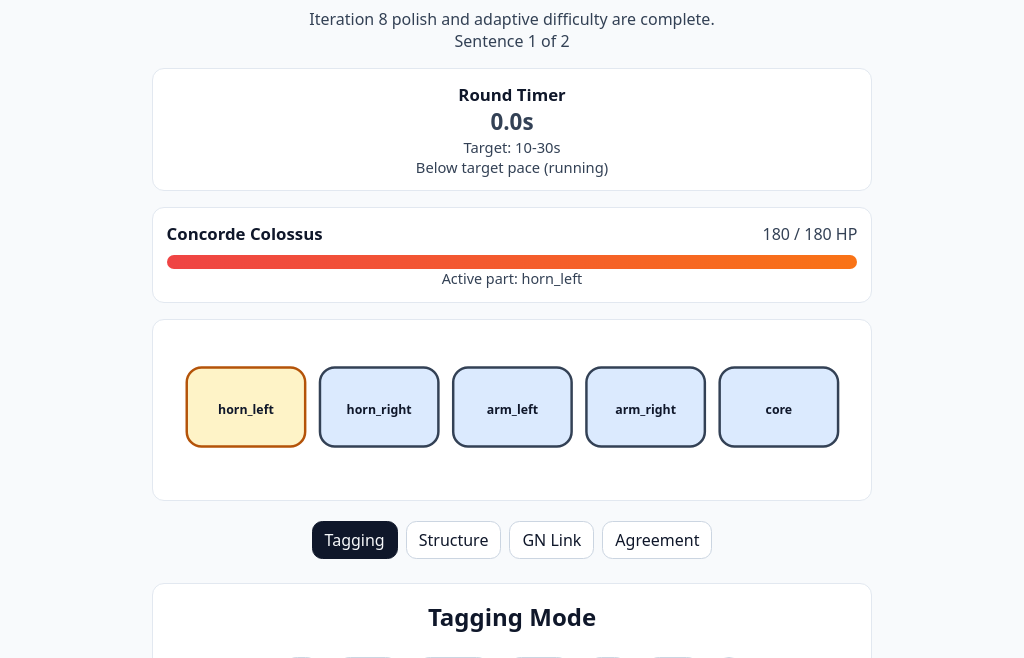
App › supports agreement mode interaction flow through battleEngine
Click the button "Agreement". click: (657, 540)
box: [602, 521, 712, 559]
(page scrolled)
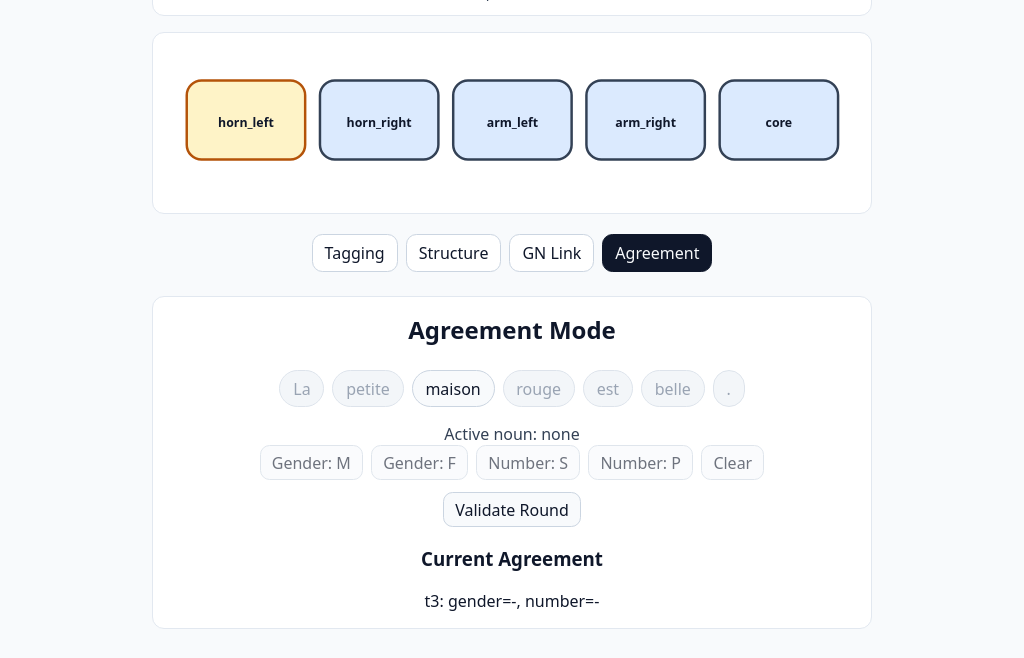
Expected: the heading "Agreement Mode" is shown, [408, 313, 616, 346]
Click the button "maison". click: (453, 388)
box: [412, 370, 494, 407]
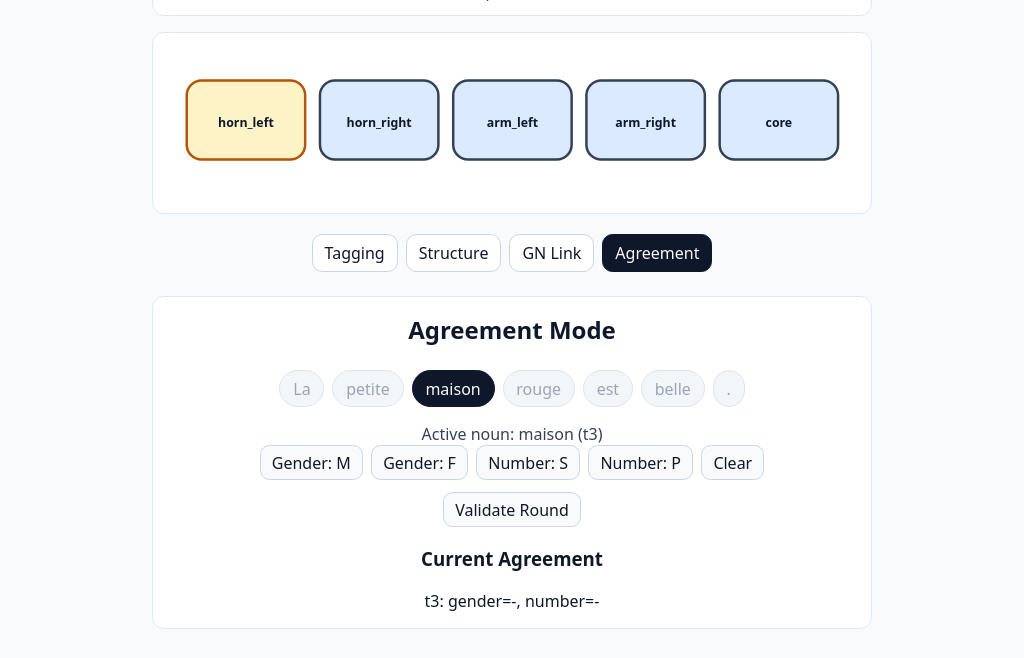
Click the button "Gender: F". click: (420, 462)
box: [371, 445, 468, 480]
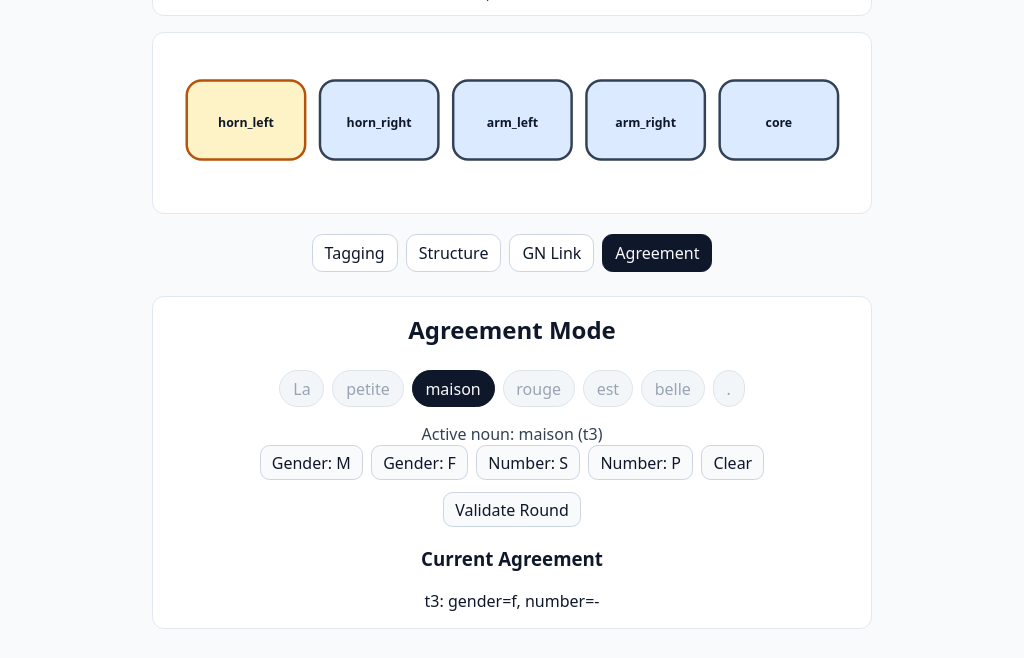
Click the button "Number: S". click: (528, 462)
box: [476, 445, 580, 480]
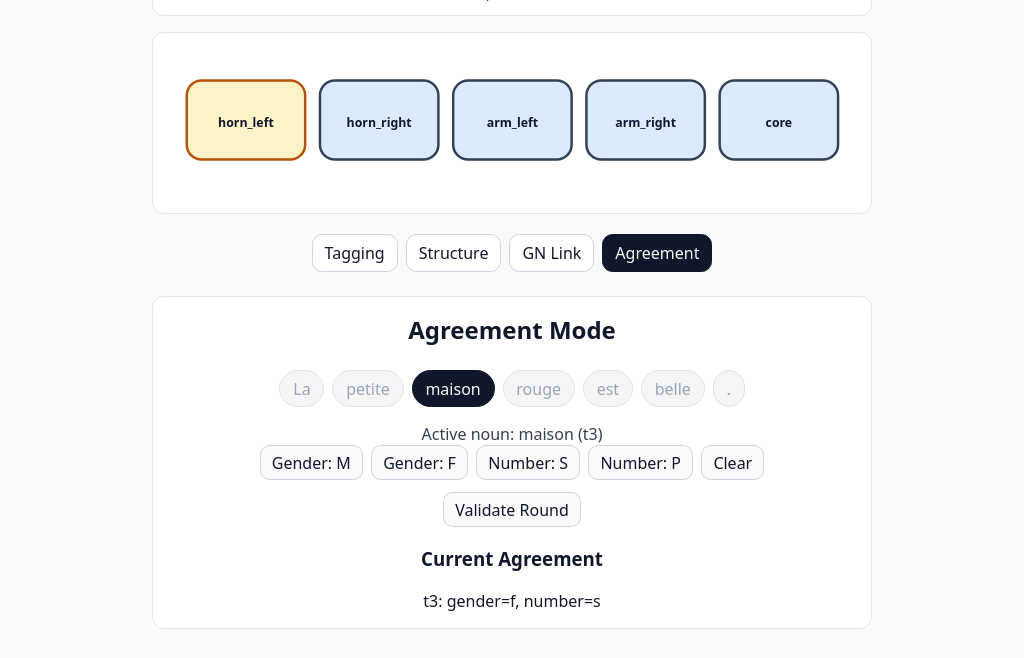
Click the button "Validate Round". click: (512, 510)
box: [443, 492, 581, 527]
(page scrolled)
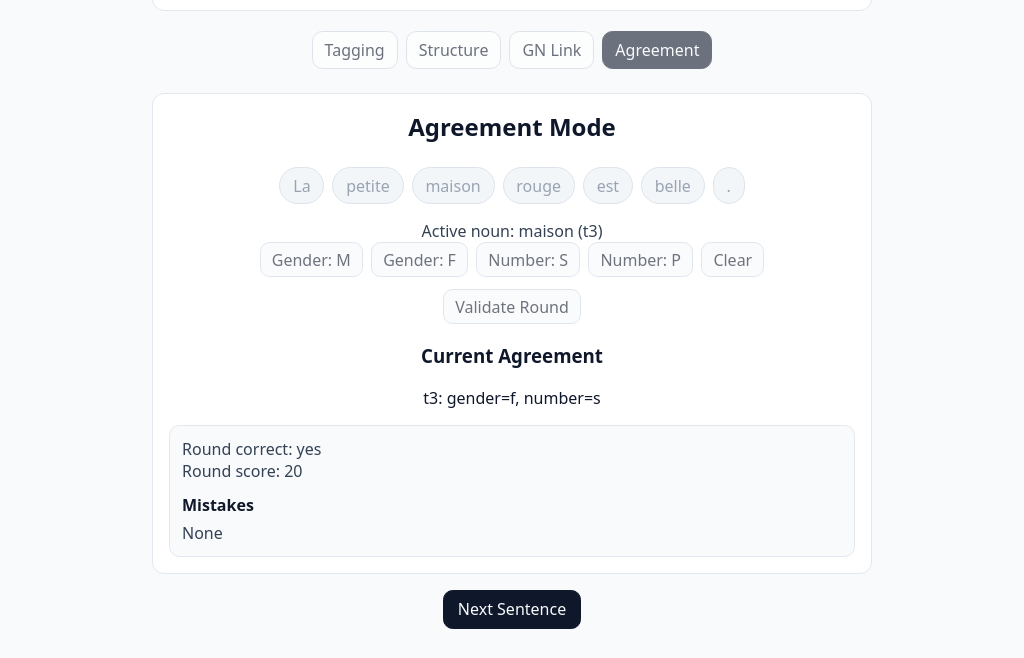
Expected: the text "Round correct: yes" is shown, [182, 438, 322, 460]
Expected: the text "Round score: 20" is shown, [182, 460, 302, 482]
Click the button "Next Sentence". click: (512, 609)
box: [443, 590, 581, 628]
(page scrolled)
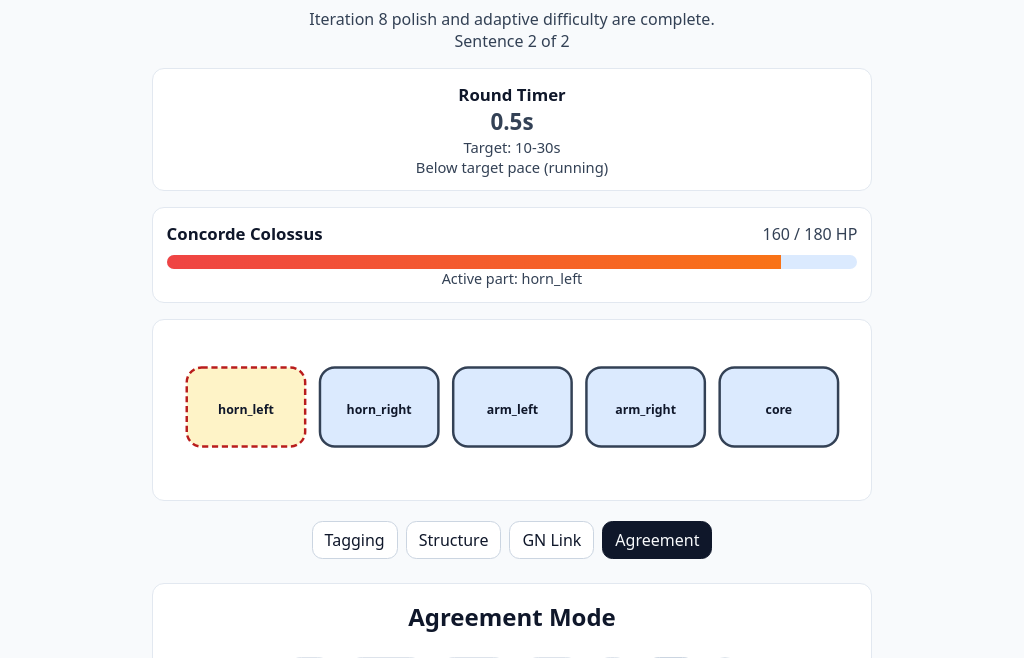
Expected: the text "Sentence 2 of 2" is shown, [454, 30, 570, 52]
